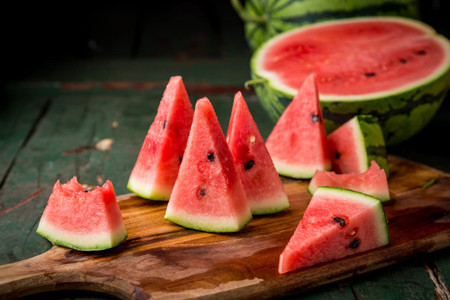Semangka: (271, 194, 384, 273), (133, 73, 192, 210), (176, 106, 230, 244), (242, 77, 294, 214), (275, 69, 333, 186), (324, 110, 382, 176)
